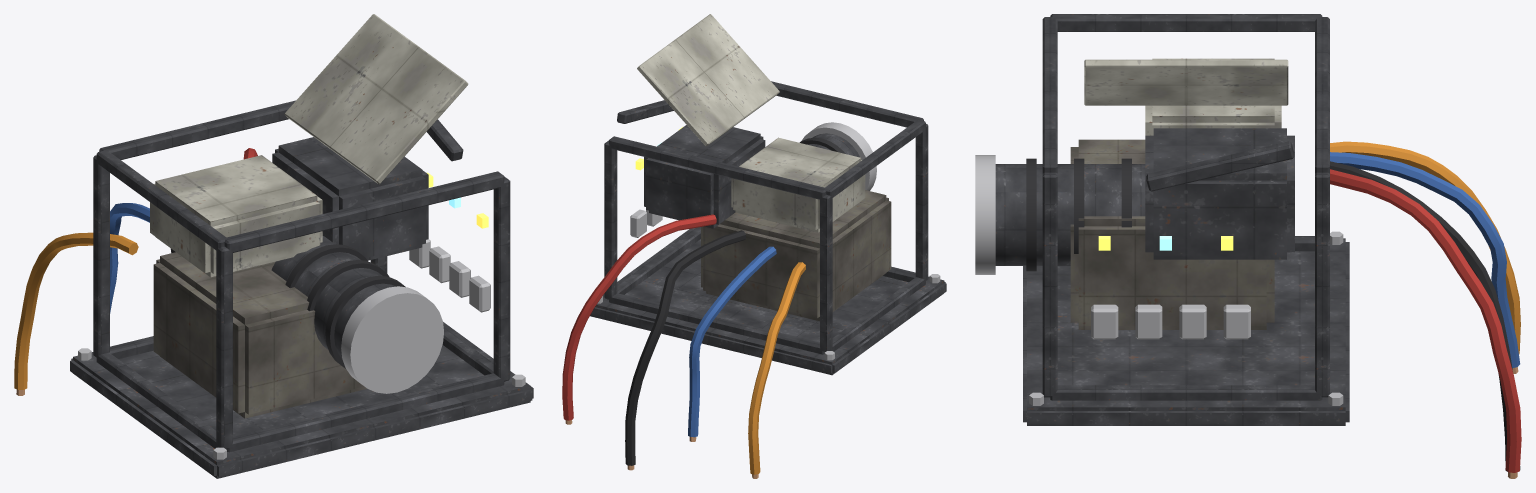
File: capsule_instrument_unit.glb
3 renders of one model, left to right at view 1: azimuth 30°, elevation 25°; view 2: azimuth 150°, elevation 25°; view 3: azimuth 270°, elevation 25°, orthographic. The views are drawn at different scales.
Parts seen in each view (by area): view 1: capsule_instrument_unit; view 2: capsule_instrument_unit; view 3: capsule_instrument_unit.
Part boxes in pixels (box(x1,y1,x2,y2)): capsule_instrument_unit: box(14, 14, 533, 478); capsule_instrument_unit: box(562, 14, 946, 478); capsule_instrument_unit: box(975, 14, 1521, 478).
Bounding box in the file's own units: 0.6 × 0.7564 × 0.8028.
Materials: 13 (3 with a texture image).
